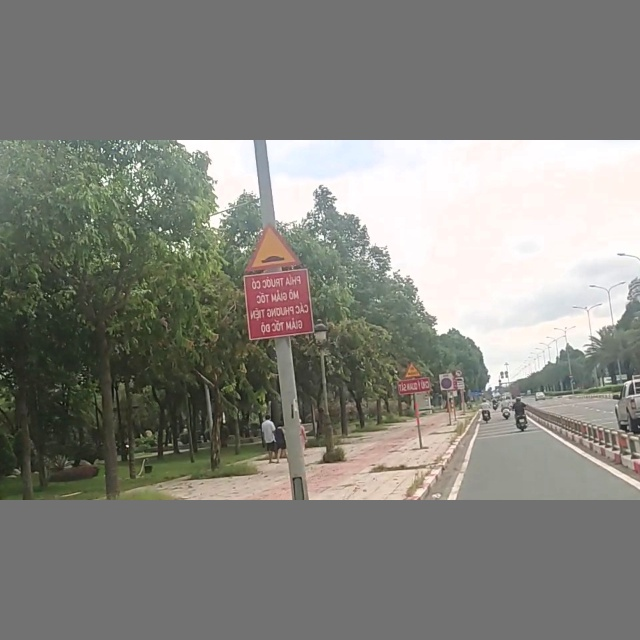P.123b: (455, 369, 463, 377)
P.130: (439, 372, 454, 391)
W.221b: (242, 221, 306, 272)
W.245a: (403, 360, 423, 378)
